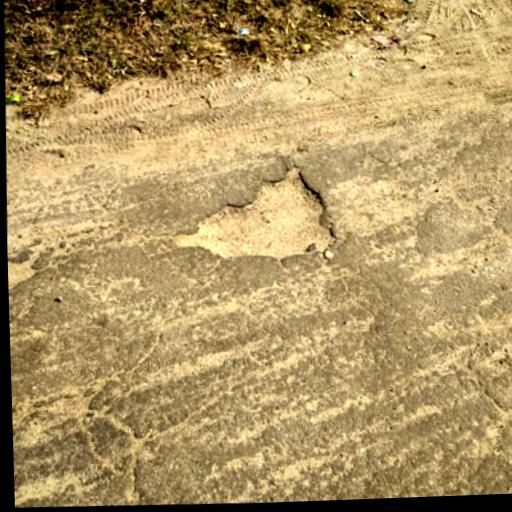pothole: (169, 157, 341, 268)
